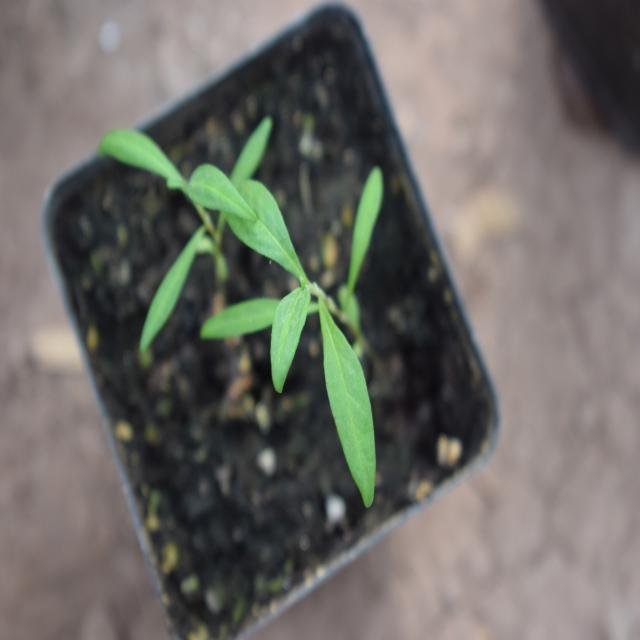white_smart_weed: (227, 164, 418, 488), (92, 79, 280, 315)
